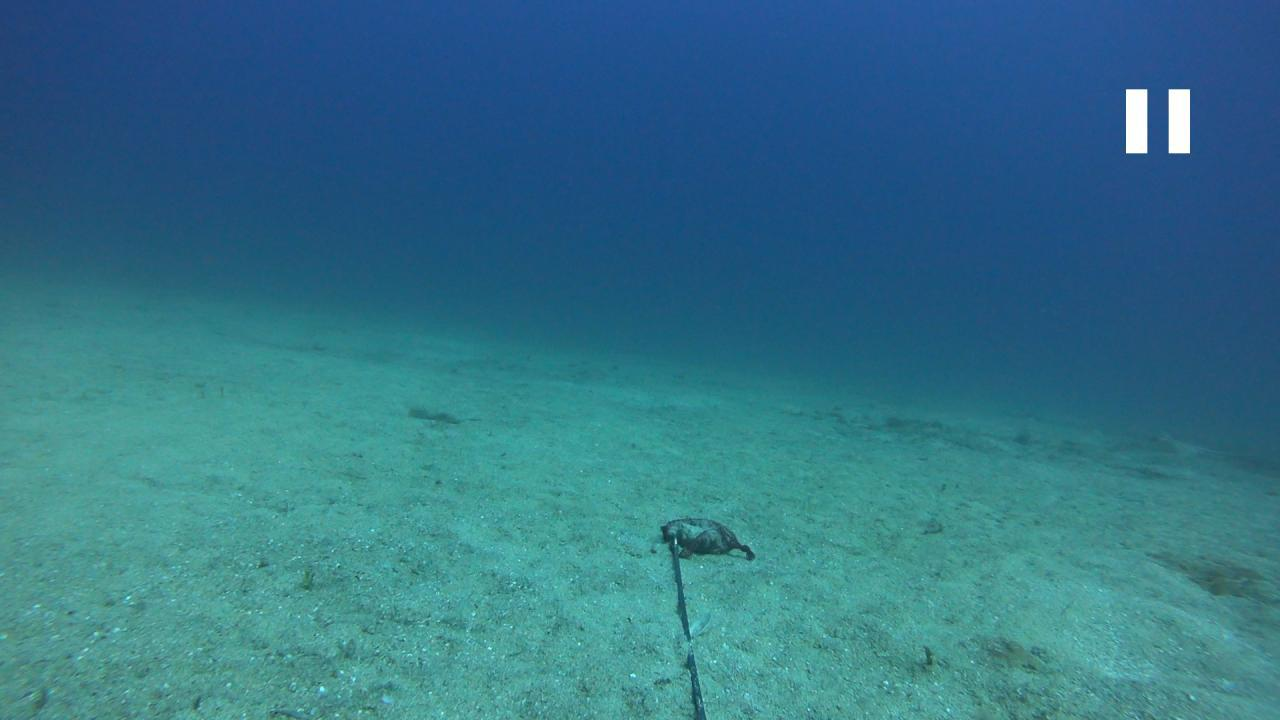dasyatis: (1149, 430, 1228, 457)
